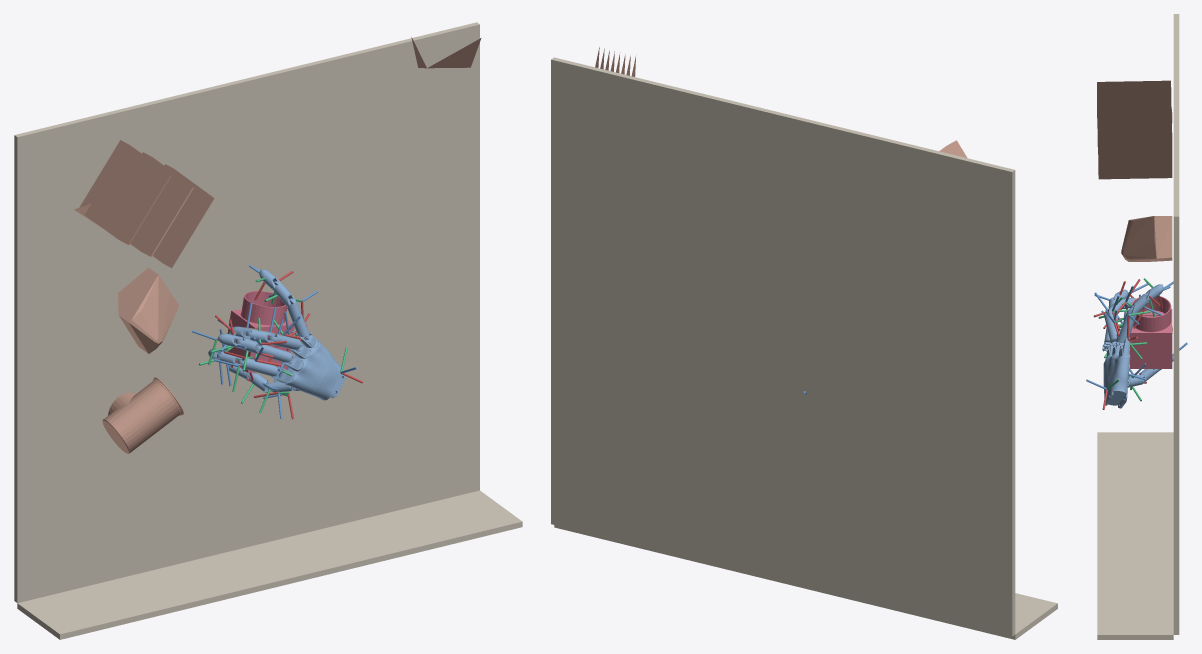
3 views of the same model, side by side, from view 1: azimuth 30°, elevation 25°; view 2: azimuth 150°, elevation 25°; view 3: azimuth 270°, elevation 25° (orthographic). The views are drawn at different scales.
Visible parts, largest first — view 1: environment, local_object_000, hand, local_object_001, local_object_002, target_object, local_object_003; view 2: environment; view 3: environment, local_object_000, hand, target_object, local_object_002.
Boxes of the visible parts, x1,y1,x2,y2 form: environment: (14, 22, 522, 639); local_object_000: (74, 140, 214, 267); hand: (208, 269, 345, 400); local_object_001: (102, 377, 183, 453); local_object_002: (118, 267, 178, 353); target_object: (225, 291, 294, 372); local_object_003: (411, 37, 481, 68); environment: (551, 57, 1057, 639); environment: (1097, 14, 1179, 639); local_object_000: (1097, 80, 1172, 179); hand: (1102, 284, 1173, 408); target_object: (1130, 296, 1172, 368); local_object_002: (1121, 216, 1172, 261).
Bounding box in the file's own units: 0.7159 × 0.7168 × 0.1484.
